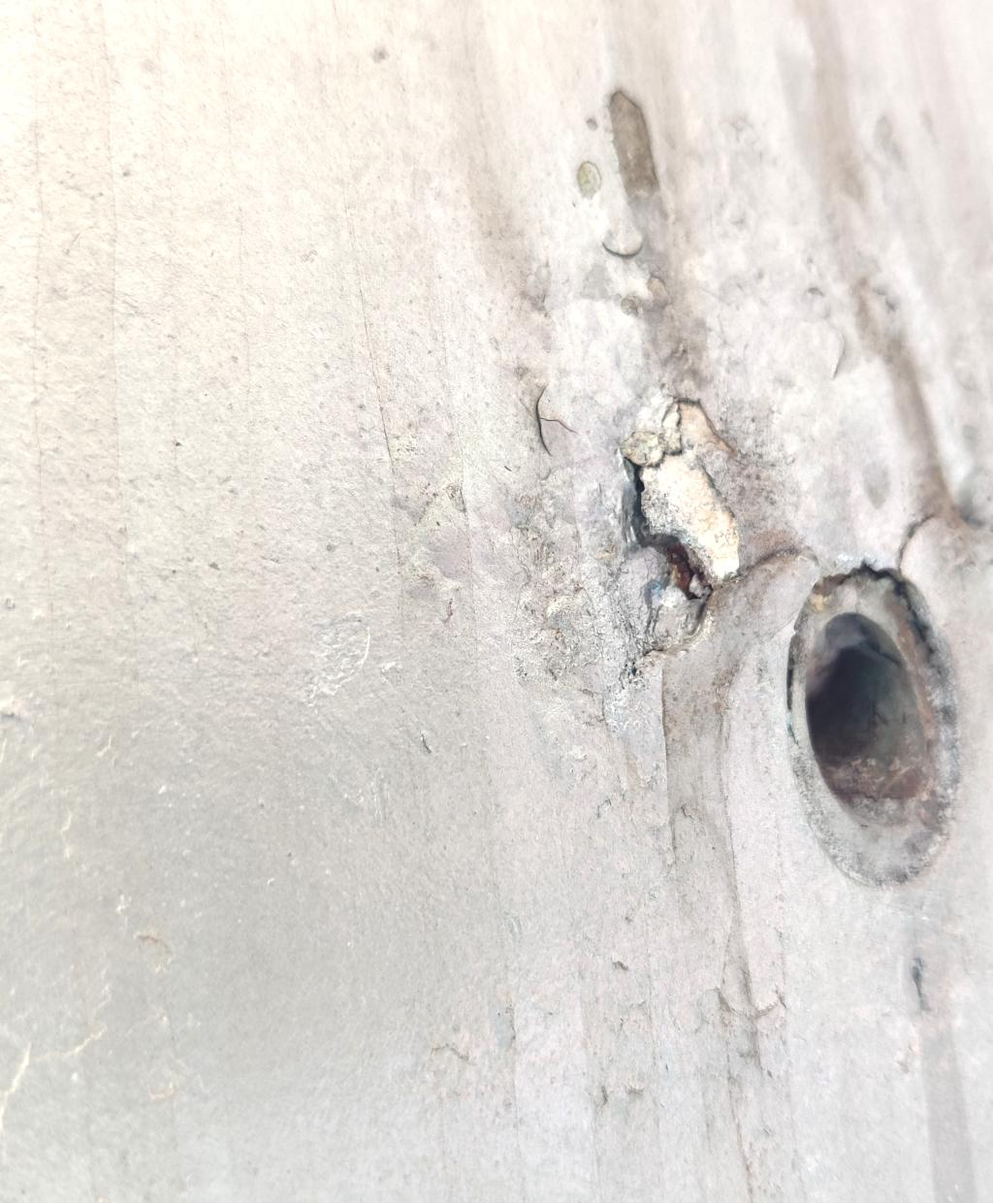crack: (599, 381, 810, 670)
